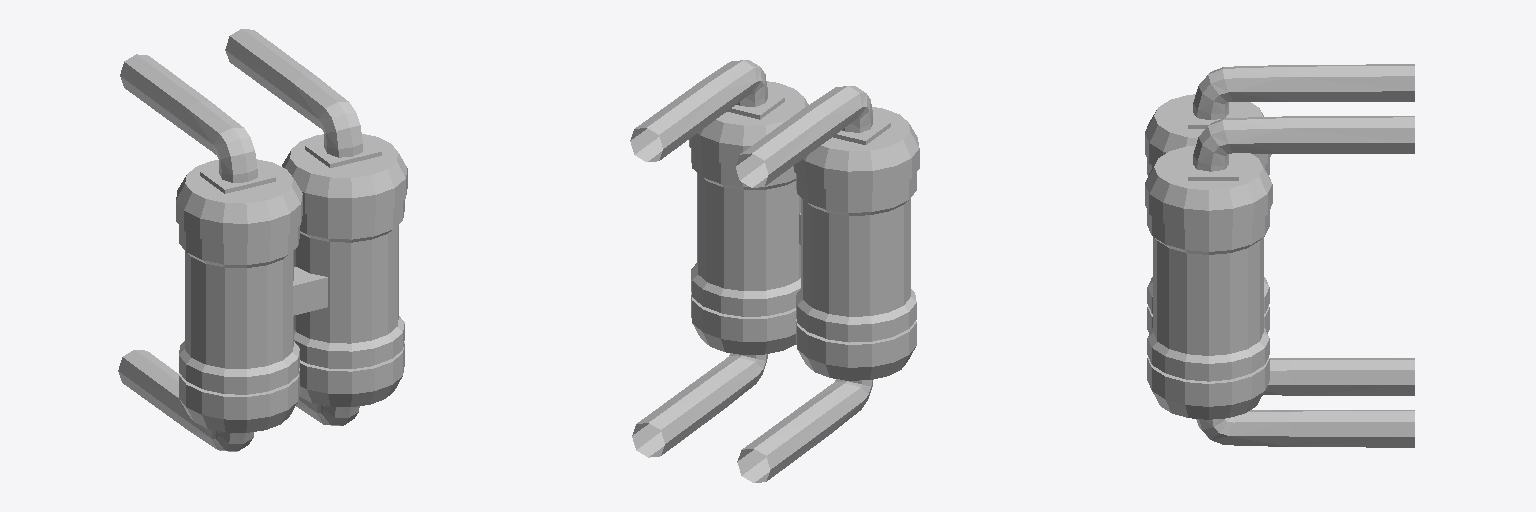
Rendered from Tank_Cylinder_006.obj.
3 renders of one model, left to right at view 1: azimuth 30°, elevation 25°; view 2: azimuth 150°, elevation 25°; view 3: azimuth 270°, elevation 25°, orthographic.
Visible parts, largest first — view 1: Tank_Cylinder.006; view 2: Tank_Cylinder.006; view 3: Tank_Cylinder.006.
Part boxes in pixels (x1,y1,x2,y2): Tank_Cylinder.006: (118,29,407,451); Tank_Cylinder.006: (630,60,919,482); Tank_Cylinder.006: (1145,64,1414,447).
Bounding box in the file's own units: 0.569 × 0.831 × 0.619.